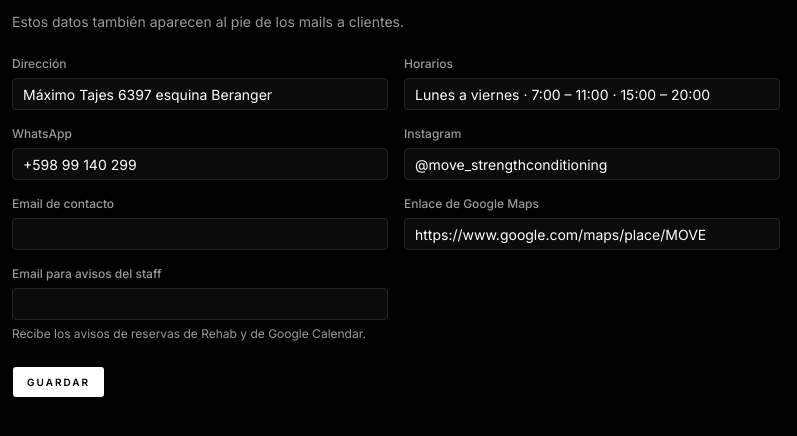
Test: ContactTab › blocks a quoted email before sending it, like the API does
In the field labelled "Email de contacto": (200, 234) [12,218,388,250], type "\"ana\"@move.uy"
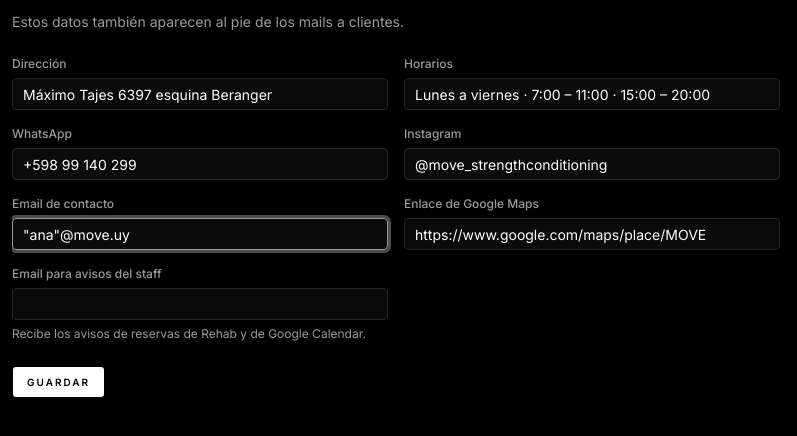
Click the button "Guardar": (59, 382) [12,366,105,398]
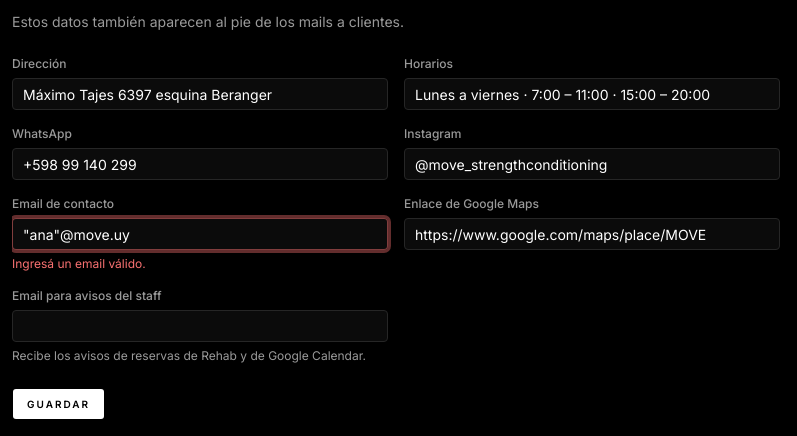
Result: the text "Ingresá un email válido." is shown at [12,256,146,271]
